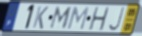1: (25, 4, 37, 31)
H: (87, 7, 110, 32)
J: (107, 7, 125, 32)
K: (31, 5, 50, 30)
M: (48, 6, 74, 30), (66, 6, 90, 32)
